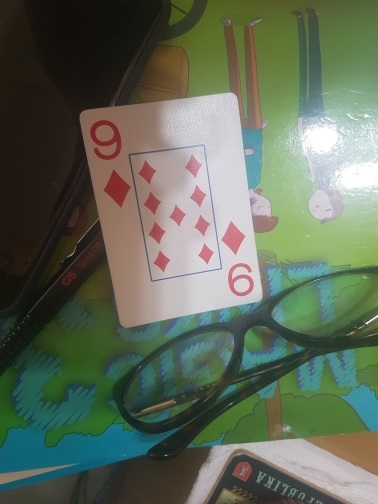nine: (79, 92, 263, 327)
